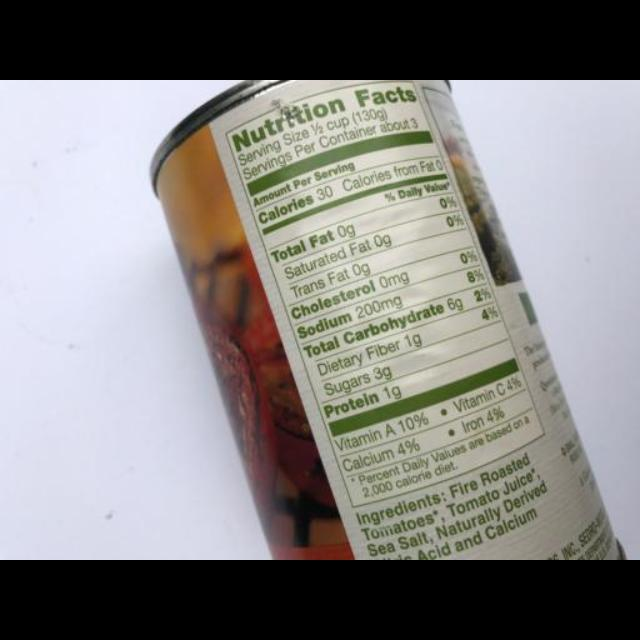lata: (150, 80, 628, 560)
